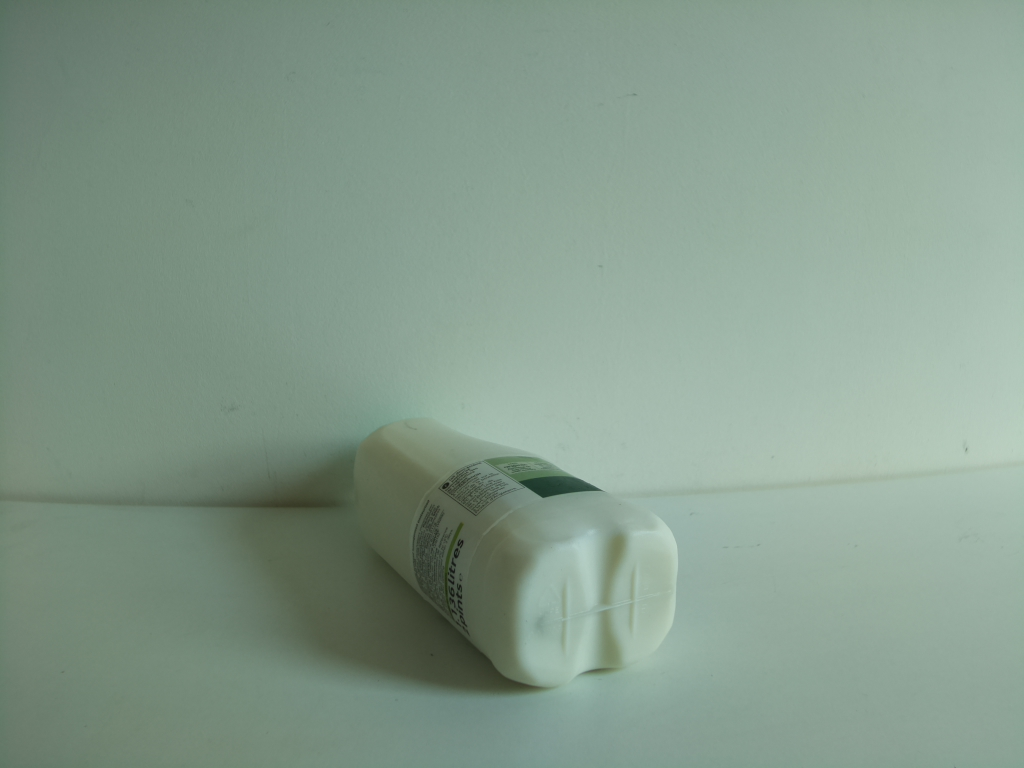milk: (345, 412, 684, 698)
